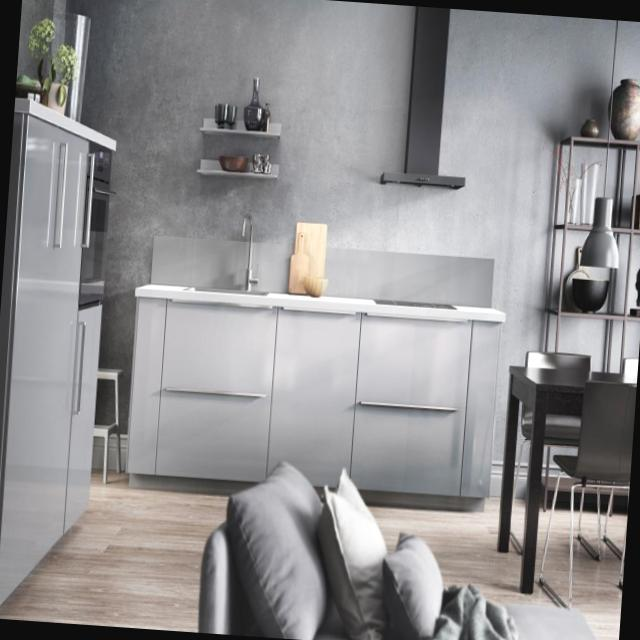footpath: (0, 488, 227, 631)
obstacle: (120, 286, 506, 516), (0, 94, 129, 611), (196, 487, 609, 640), (488, 332, 639, 610)
